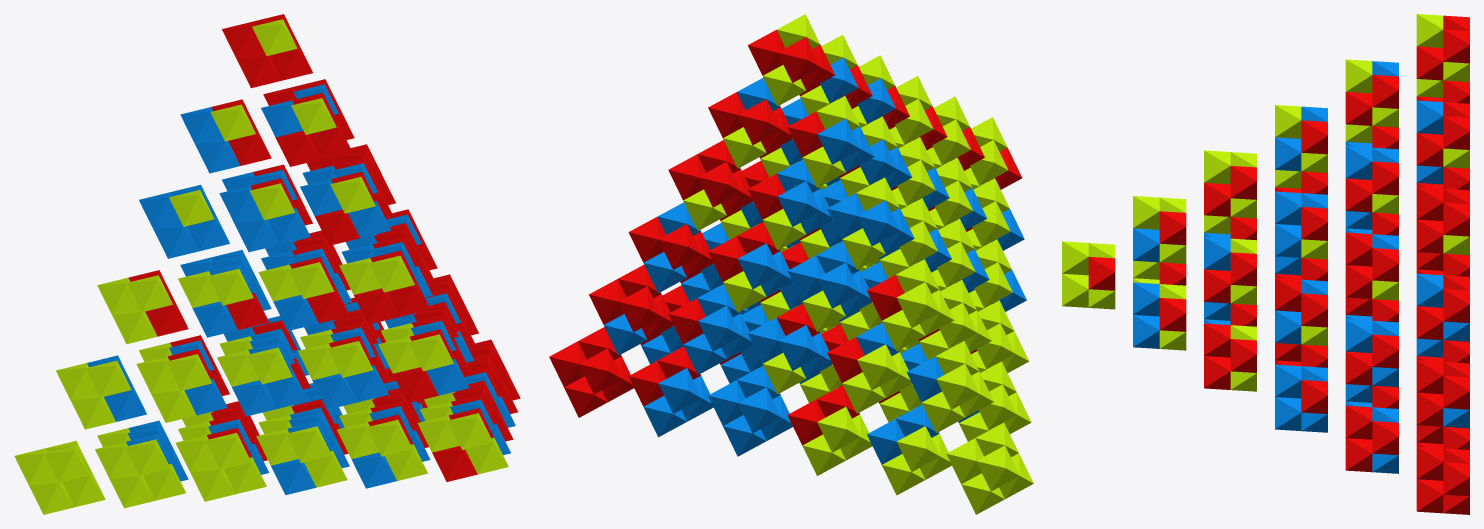
File: tet3.glb
The picture shows the model from 3 angles, left to right: view 1: azimuth 30°, elevation 25°; view 2: azimuth 150°, elevation 25°; view 3: azimuth 270°, elevation 25°; orthographic projection. The views are drawn at different scales.
Bounding box in the file's own units: 5.75 × 5.2 × 4.69.
